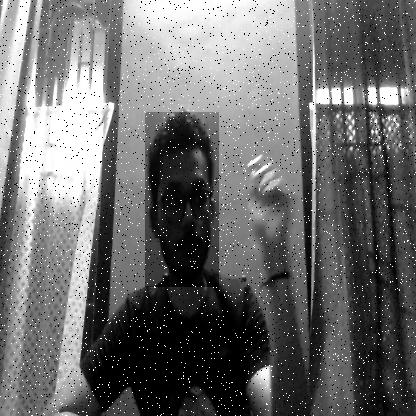Distracted: (145, 112, 219, 287)
